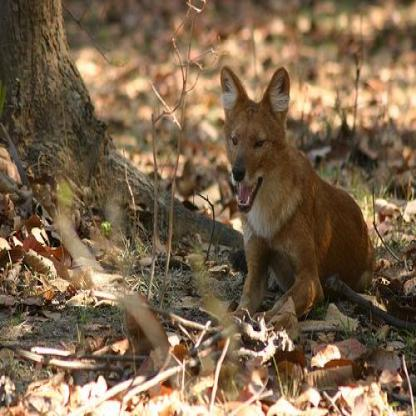dhole: (216, 61, 375, 321)
